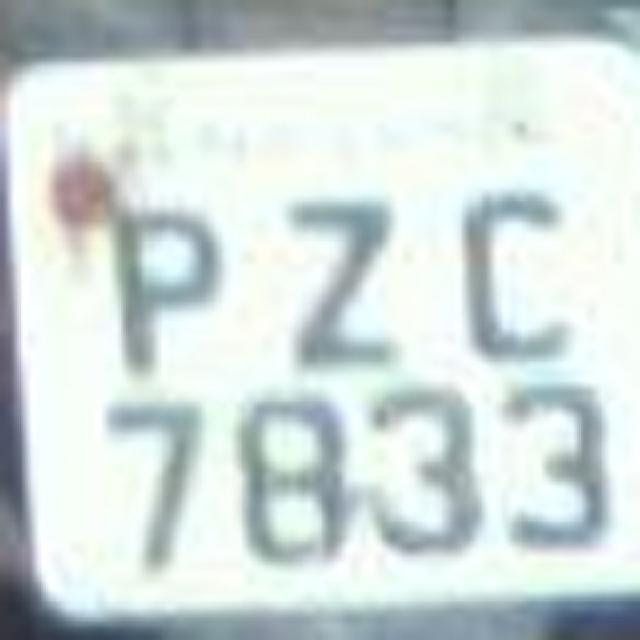3: (328, 356, 512, 576), (464, 351, 640, 563)
7: (80, 380, 220, 585)
8: (211, 371, 364, 584)
P: (84, 196, 231, 392)
Z: (252, 192, 416, 372)
